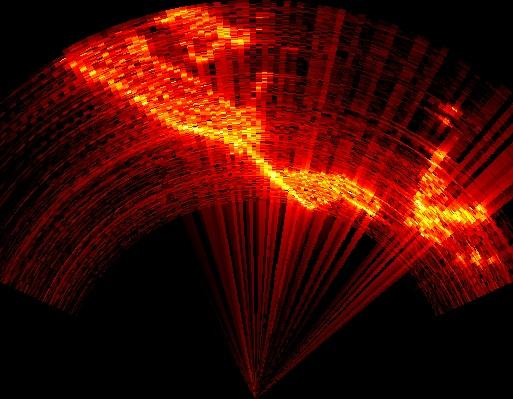shipwreck: (72, 33, 382, 216), (405, 150, 488, 243), (157, 7, 248, 49)
